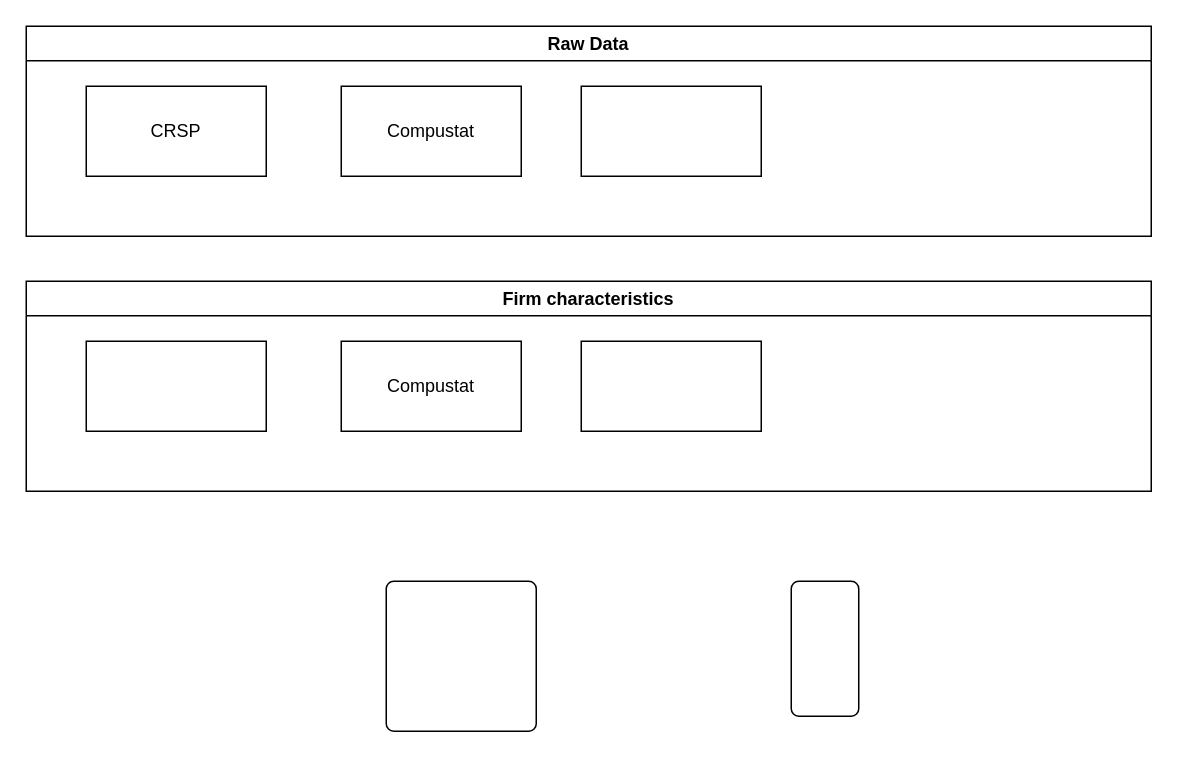
Some shapes in this 1178 by 758 pixel diagram are drawn without their labels. The box of each missing label's shape, as (x1, y1, x2, y2) in pixels:
main: (385, 580, 461, 731)
sub: (790, 580, 859, 716)
